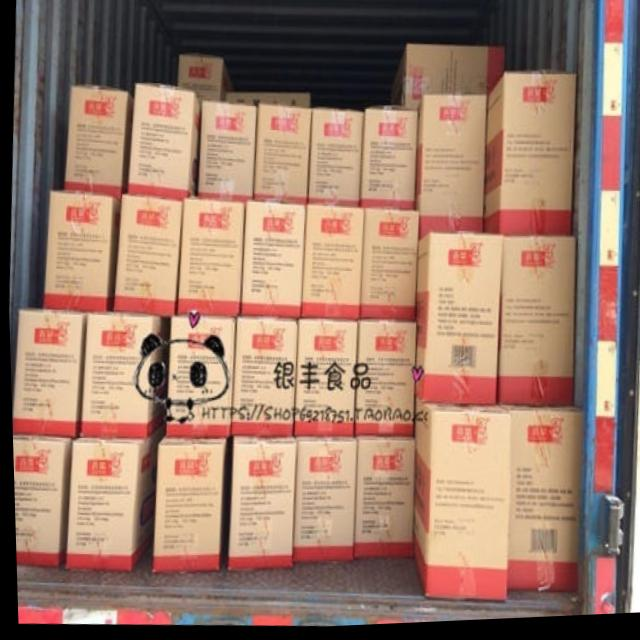box: (409, 400, 507, 605), (497, 408, 581, 597), (482, 77, 577, 241), (413, 237, 501, 408), (494, 241, 573, 411), (61, 431, 155, 572), (78, 312, 162, 439), (413, 99, 486, 244), (149, 437, 223, 573), (10, 309, 84, 438), (42, 190, 119, 313), (224, 438, 294, 573), (127, 84, 200, 201), (163, 318, 233, 439), (112, 196, 181, 318), (289, 439, 354, 565), (10, 434, 71, 568), (63, 86, 133, 202), (229, 318, 296, 439), (176, 198, 243, 318), (291, 321, 355, 439), (240, 204, 304, 321), (390, 48, 505, 113), (351, 439, 412, 561), (299, 208, 363, 323), (351, 325, 414, 441), (358, 212, 417, 324), (358, 110, 417, 213), (196, 103, 256, 204), (253, 107, 311, 207), (306, 111, 363, 210), (178, 56, 232, 106), (224, 93, 309, 111)
